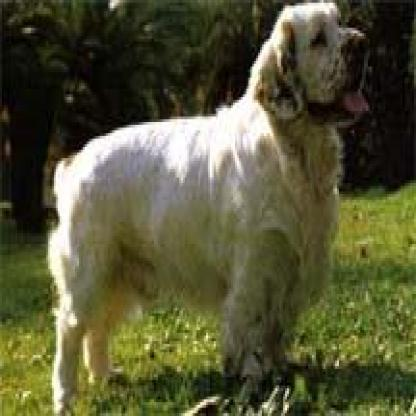clumber: (44, 0, 369, 410)
